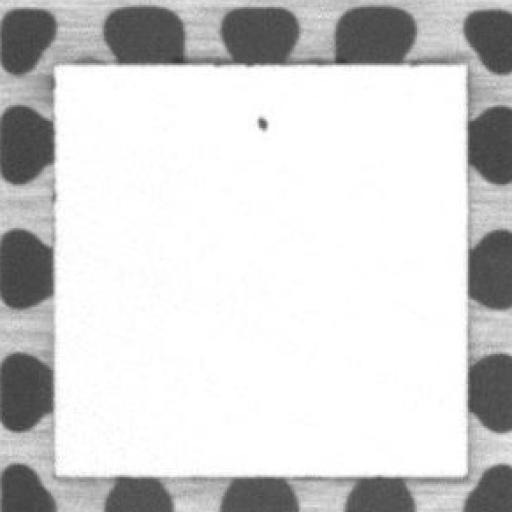DIE_INK: (254, 112, 270, 133)
